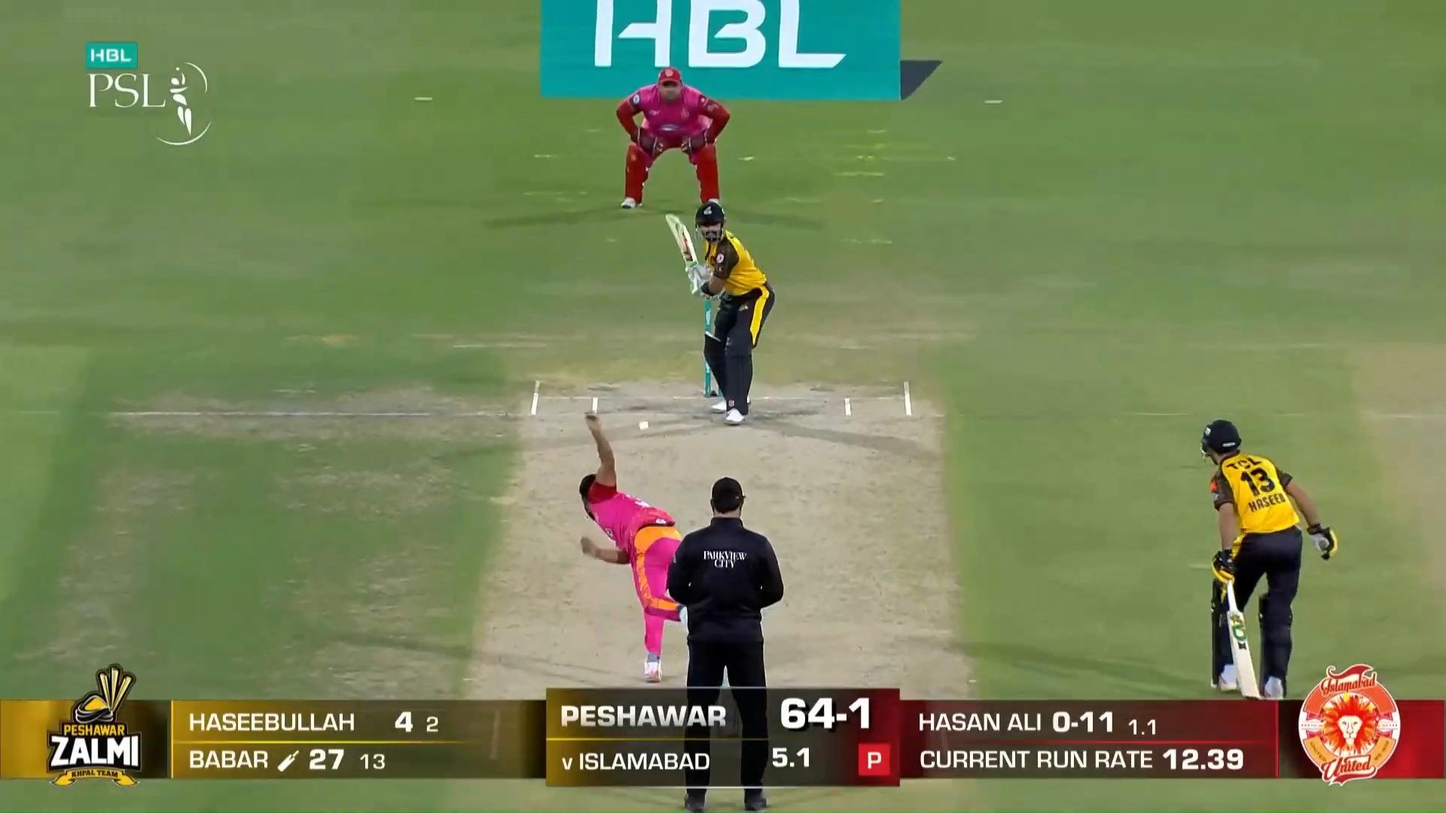batsman: (665, 203, 775, 426)
